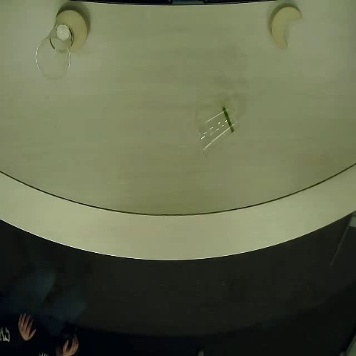empty_cup: (29, 22, 85, 80), (190, 105, 244, 155)
puck: (263, 5, 307, 53), (52, 8, 95, 54)
